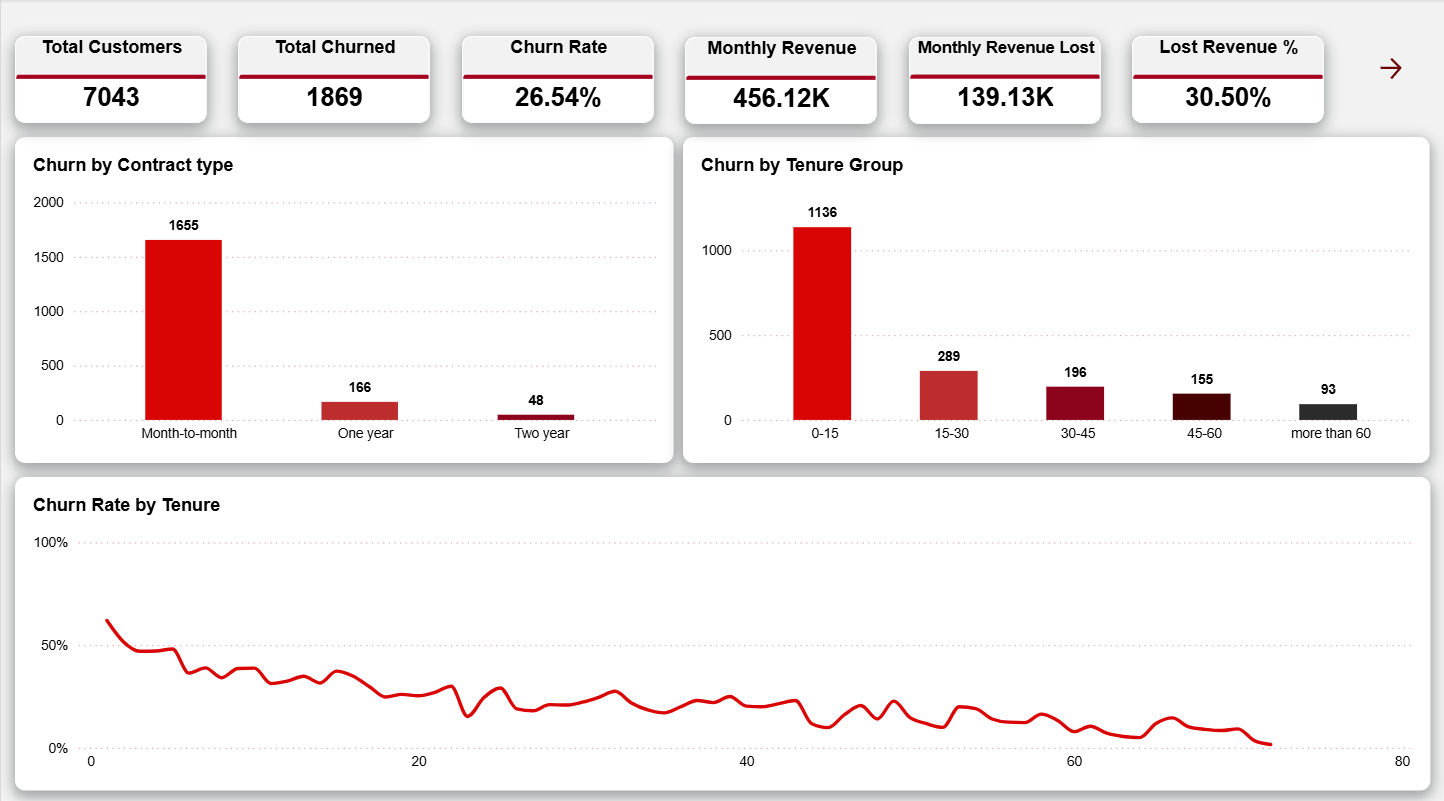

The page's visual inventory and layout, read from the dashboard file:
{"tool":"powerbi","page":{"name":"Churn overview","canvas":[1280,720],"ordinal":1},"visuals":[{"type":"clusteredColumnChart","title":"Churn by Contract type","fields":{"Category":["data.Contract"],"Y":["measures table.no. churn cus"]},"box":[12.6,122.6,583.6,288.9],"z":0},{"type":"clusteredColumnChart","title":"Churn by Tenure Group","fields":{"Y":["measures table.no. churn cus"],"Category":["data.Tenure Group"]},"box":[605,122.6,662.4,288.9],"z":1000},{"type":"lineChart","title":"Churn Rate by Tenure","fields":{"Category":["data.tenure"],"Y":["measures table.churn cus %"]},"box":[12.6,424.1,1254.7,278.2],"z":2000},{"type":"actionButton","box":[1197.3,34,70,55.4],"z":3000},{"type":"cardVisual","title":"Total Churned","fields":{"Data":["measures table.no. churn cus"]},"box":[210.5,32.8,170,77.1],"z":4000},{"type":"cardVisual","title":"Churn Rate","fields":{"Data":["measures table.churn cus %"]},"box":[408.6,32.8,170,77.1],"z":5000},{"type":"cardVisual","title":"Total Customers","fields":{"Data":["measures table.no. cus"]},"box":[12.4,32.8,170,77.1],"z":6000},{"type":"cardVisual","title":"Monthly Revenue","fields":{"Data":["measures table.total of MonthlyCharges"]},"box":[606.7,33.7,170,77.1],"z":7000},{"type":"cardVisual","title":"Monthly Revenue Lost","fields":{"Data":["measures table.lost MonthlyCharges"]},"box":[804.8,33.7,170,77.1],"z":8000},{"type":"cardVisual","title":"Lost Revenue %","fields":{"Data":["measures table.lost MonthlyCharges %"]},"box":[1002.9,32.8,170,77.1],"z":9000}]}

Visuals, with their boxes in screenshot pixels (x1, y1, x2, y2), scaled from the page's 1280x720 canvas onto the 1444x801 screenshot:
"Churn by Contract type" clusteredColumnChart: box(14, 136, 673, 458)
"Churn by Tenure Group" clusteredColumnChart: box(683, 136, 1430, 458)
"Churn Rate by Tenure" lineChart: box(14, 472, 1430, 781)
actionButton: box(1351, 38, 1430, 99)
"Total Churned" cardVisual: box(237, 36, 429, 122)
"Churn Rate" cardVisual: box(461, 36, 653, 122)
"Total Customers" cardVisual: box(14, 36, 206, 122)
"Monthly Revenue" cardVisual: box(684, 37, 876, 123)
"Monthly Revenue Lost" cardVisual: box(908, 37, 1100, 123)
"Lost Revenue %" cardVisual: box(1131, 36, 1323, 122)
